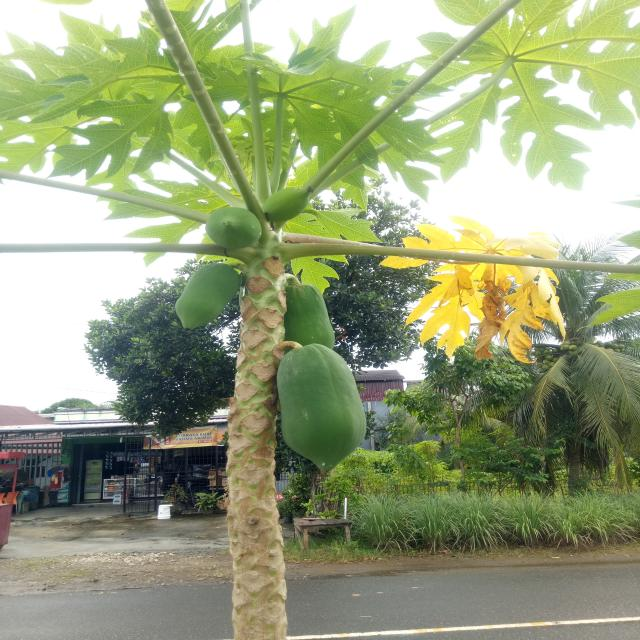Pepaya unrippen: (283, 344, 367, 476), (175, 266, 238, 328), (282, 276, 333, 340), (213, 206, 264, 254)
